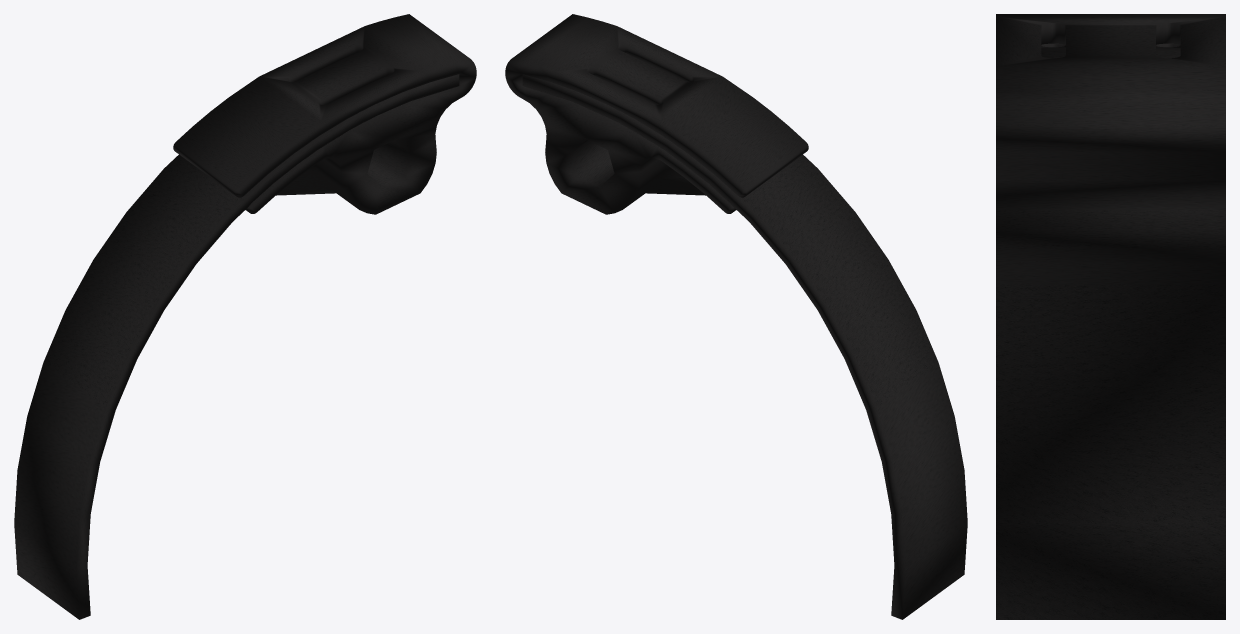
Rendered from rhex_upperleg.dae.
3 renders of one model, left to right at view 1: azimuth 30°, elevation 25°; view 2: azimuth 150°, elevation 25°; view 3: azimuth 270°, elevation 25°, orthographic. The views are drawn at different scales.
Visible parts, largest first — view 1: RHexLegUpper; view 2: RHexLegUpper; view 3: RHexLegUpper.
Boxes of the visible parts, left/top/right/bottom form: RHexLegUpper: left=14, top=14, right=476, bottom=619; RHexLegUpper: left=505, top=14, right=967, bottom=619; RHexLegUpper: left=996, top=14, right=1225, bottom=619.
Bounding box in the file's own units: 0.1046 × 0.028 × 0.1161.
Materials: 1 (1 with a texture image).
